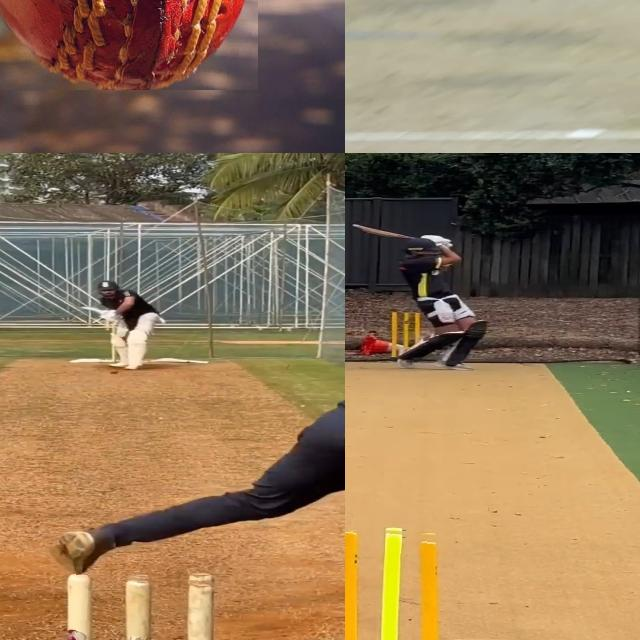Cricket ball: (0, 0, 258, 89), (110, 369, 118, 374)
Stumps: (345, 525, 453, 640), (68, 570, 214, 640)
